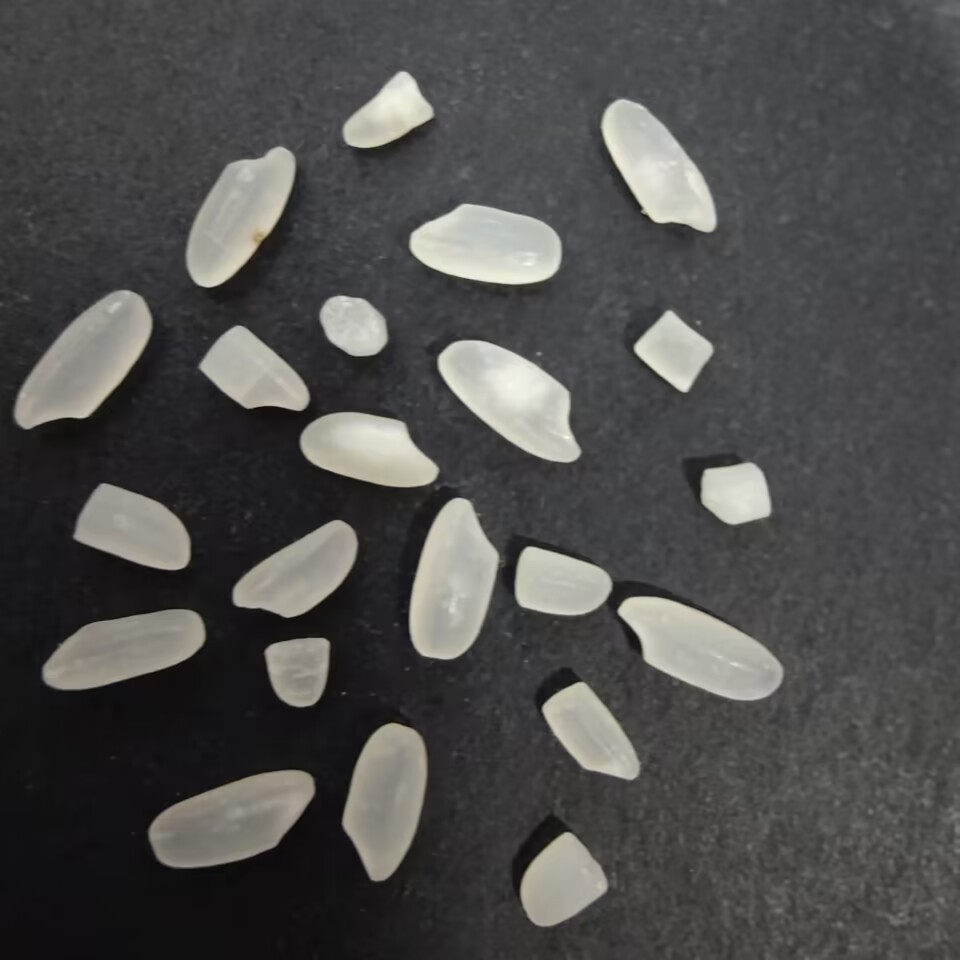broken: (67, 479, 195, 579), (539, 679, 648, 787), (197, 322, 315, 418), (511, 826, 614, 934), (333, 62, 438, 154), (507, 540, 617, 622), (626, 303, 719, 398), (691, 455, 778, 531), (257, 633, 335, 711), (312, 292, 393, 360)
rice: (12, 282, 163, 436), (612, 591, 792, 707), (144, 761, 320, 876), (434, 337, 585, 469), (598, 96, 722, 235), (185, 140, 297, 290), (404, 491, 501, 663), (338, 715, 434, 885), (36, 605, 209, 699), (399, 197, 568, 293), (226, 515, 360, 618), (296, 408, 445, 491)
